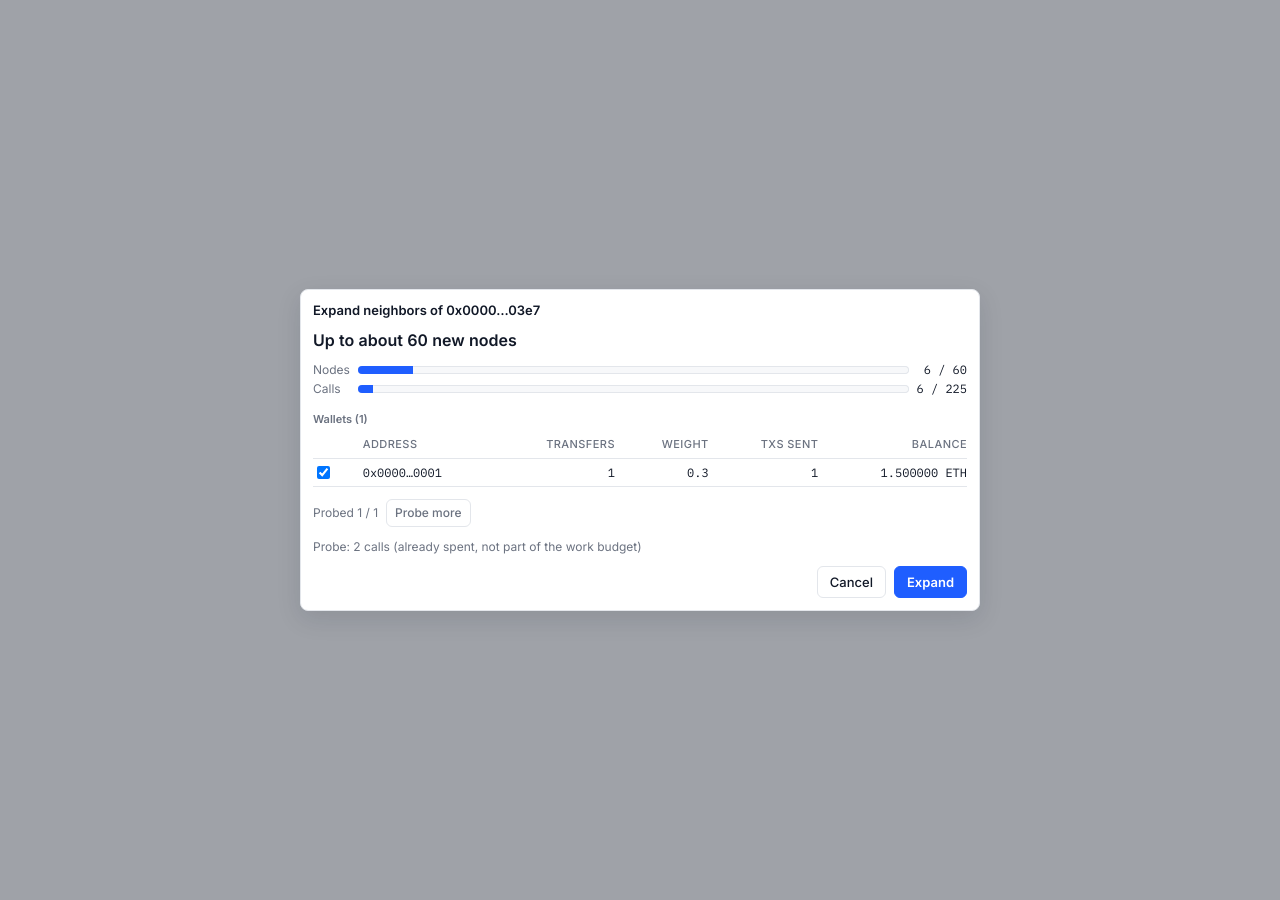
Test case: the toast's Undo undoes the expansion
The image size is (1280, 900).
What coordinates should you click on to do the following:
click the button "Expand"
I would click on:
 (930, 582)
Its box is [894,566,967,598].
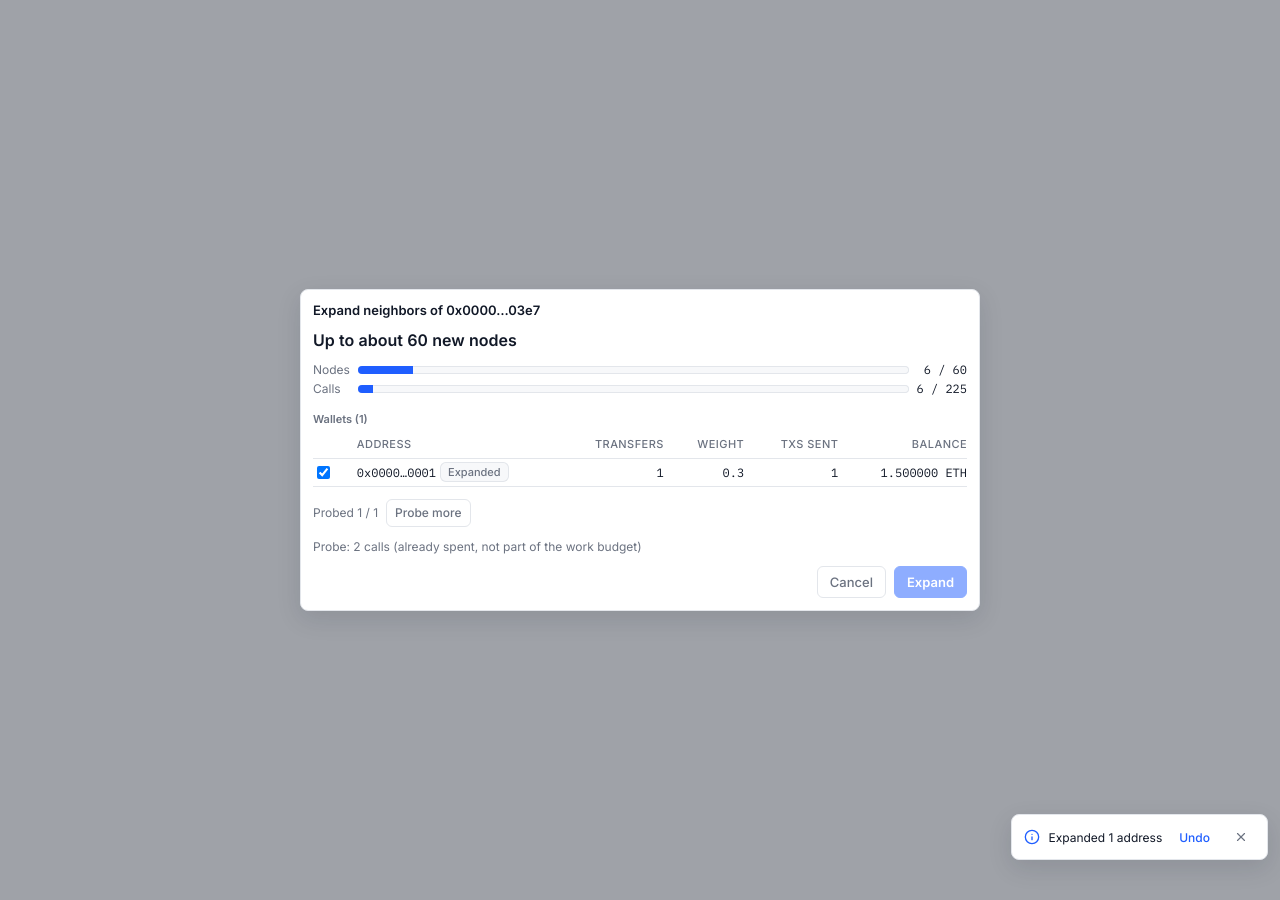
What coordinates should you click on to do the following:
click the button "Undo"
I would click on:
 (1195, 837)
Its box is [1170,823,1219,851].
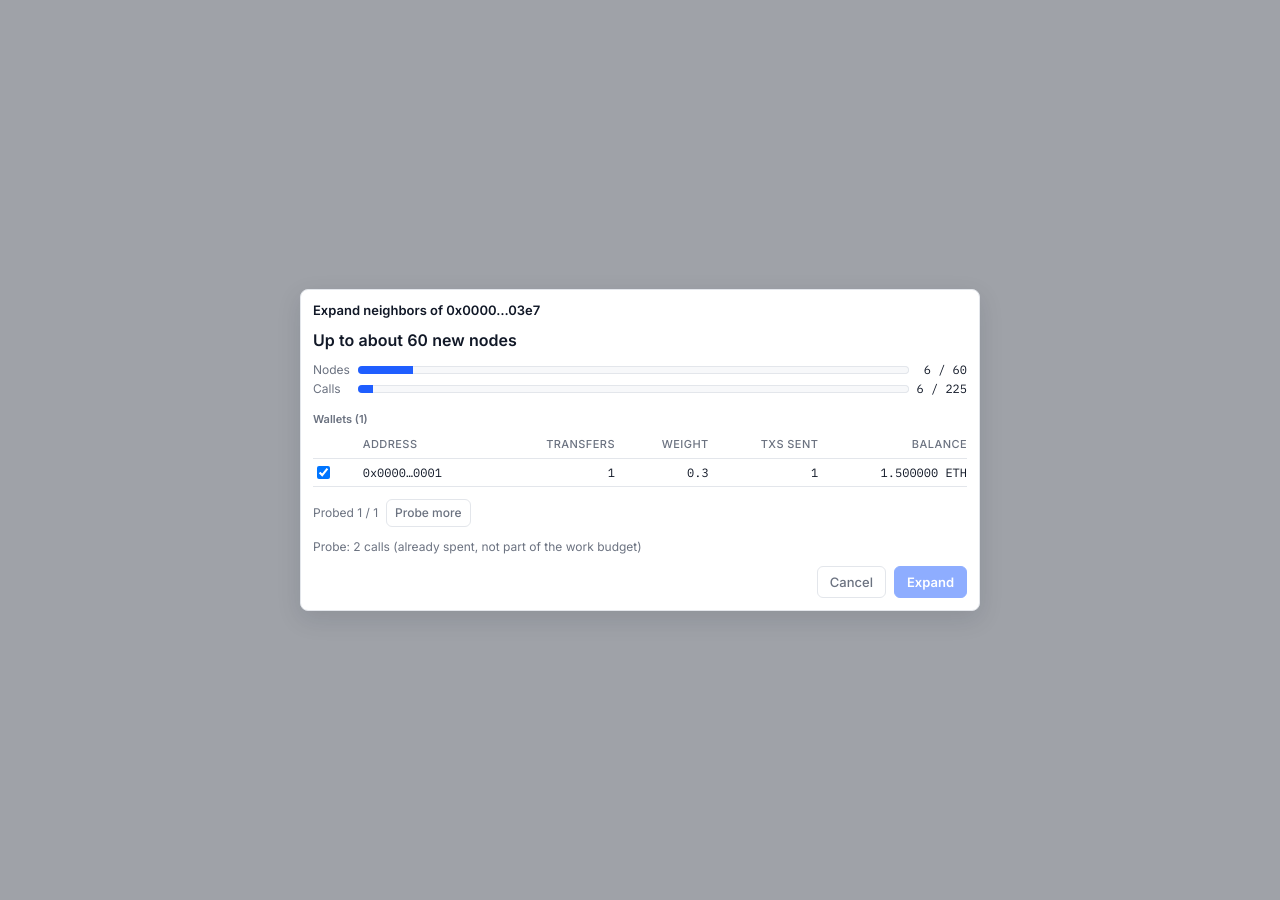
Now the text "Expanded 1 address" is gone
